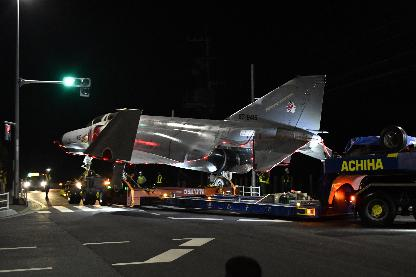F35: (52, 74, 341, 195)
